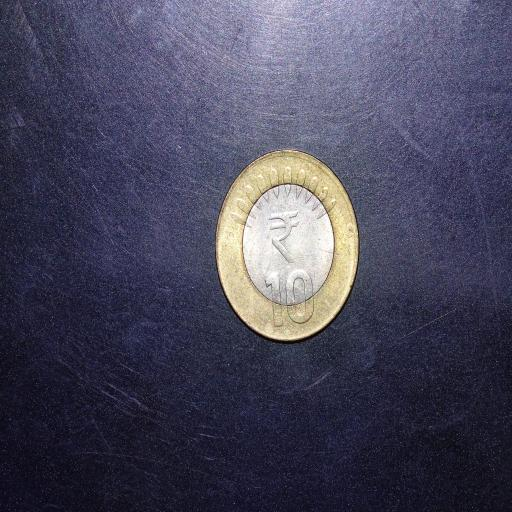rupee10: (214, 149, 363, 341)
